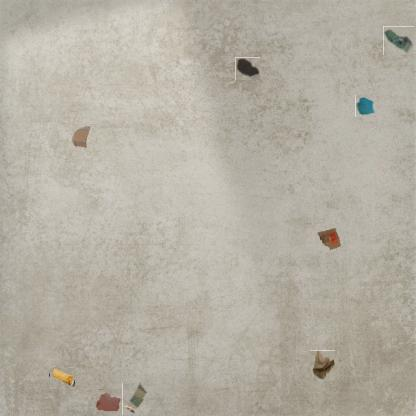dirty: (383, 26, 414, 55), (122, 383, 149, 415), (310, 350, 336, 381), (315, 224, 343, 252), (69, 124, 93, 148), (49, 367, 75, 389), (355, 95, 376, 117)
liquid: (93, 390, 121, 412), (236, 56, 260, 81)
